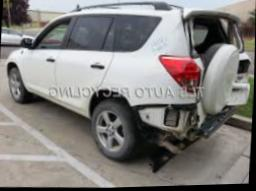Bumper: (136, 104, 241, 169)
Dickey: (186, 52, 249, 112)
